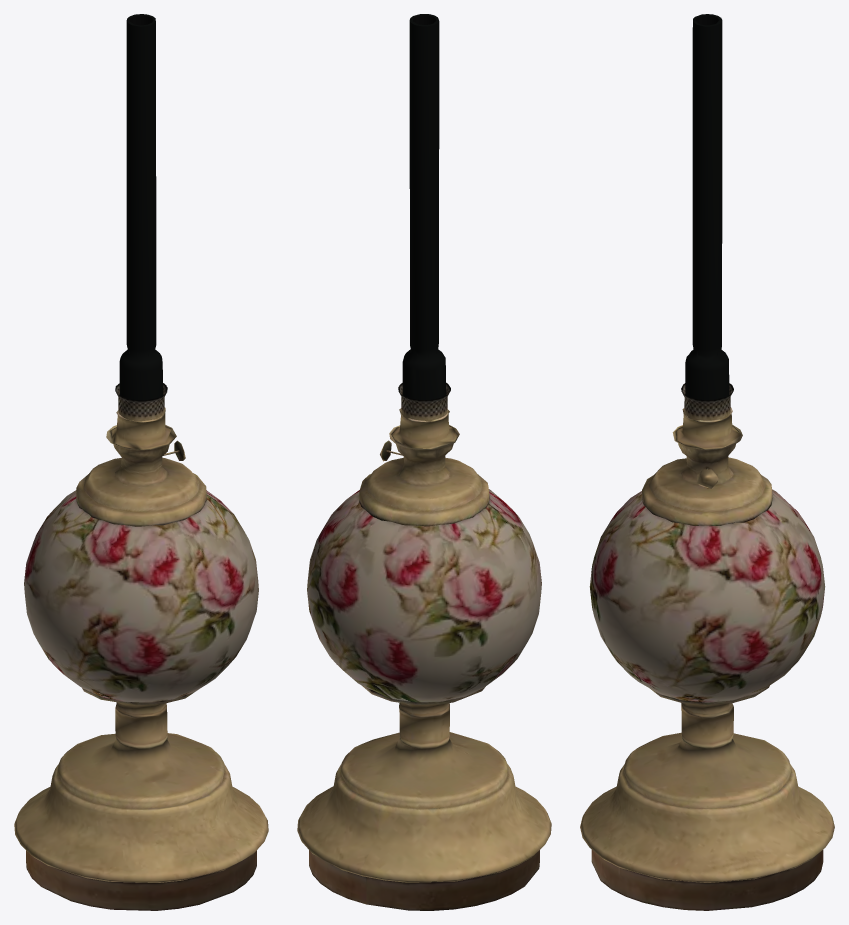
Rendered from hurricane.glb.
The picture shows the model from 3 angles, left to right: view 1: azimuth 30°, elevation 25°; view 2: azimuth 150°, elevation 25°; view 3: azimuth 270°, elevation 25°; orthographic projection.
Parts seen in each view (by area): view 1: vintage_oil_lamp, vintage_oil_lamp_glass; view 2: vintage_oil_lamp, vintage_oil_lamp_glass; view 3: vintage_oil_lamp, vintage_oil_lamp_glass.
Part boxes in pixels (x1,y1,x2,y2): vintage_oil_lamp: (14,407,268,910); vintage_oil_lamp_glass: (115,14,167,421); vintage_oil_lamp: (297,408,551,910); vintage_oil_lamp_glass: (398,14,450,421); vintage_oil_lamp: (580,407,834,910); vintage_oil_lamp_glass: (681,14,733,420).
Size of the model in its own units: 0.22 by 0.8016 by 0.22.
Materials: 3 (3 with a texture image).
